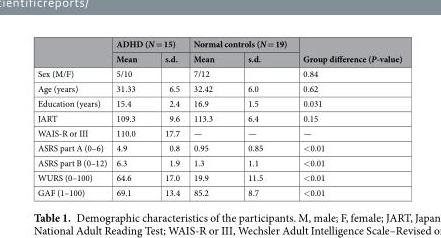table: (36, 37, 401, 198)
table column: (294, 37, 401, 198), (36, 37, 110, 198), (230, 37, 294, 198), (186, 37, 230, 198), (110, 37, 150, 198), (150, 37, 186, 198)
table column header: (36, 37, 401, 65)
table row: (36, 50, 401, 65), (36, 65, 401, 80), (36, 80, 401, 95), (36, 95, 401, 110), (36, 110, 401, 125), (36, 125, 401, 140), (36, 154, 401, 169), (36, 169, 401, 184), (36, 140, 401, 154), (36, 184, 401, 198), (36, 37, 401, 50)
table spanning cell: (294, 37, 401, 65), (186, 37, 294, 50), (110, 37, 186, 50)
